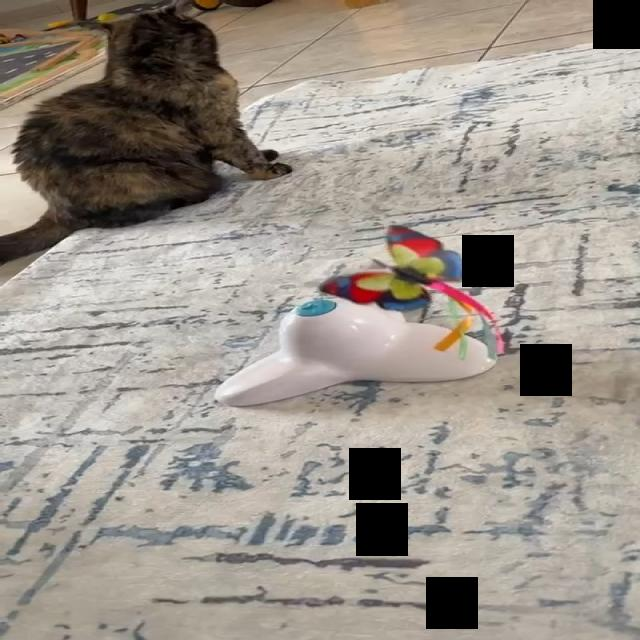authorized: (0, 0, 292, 266)
